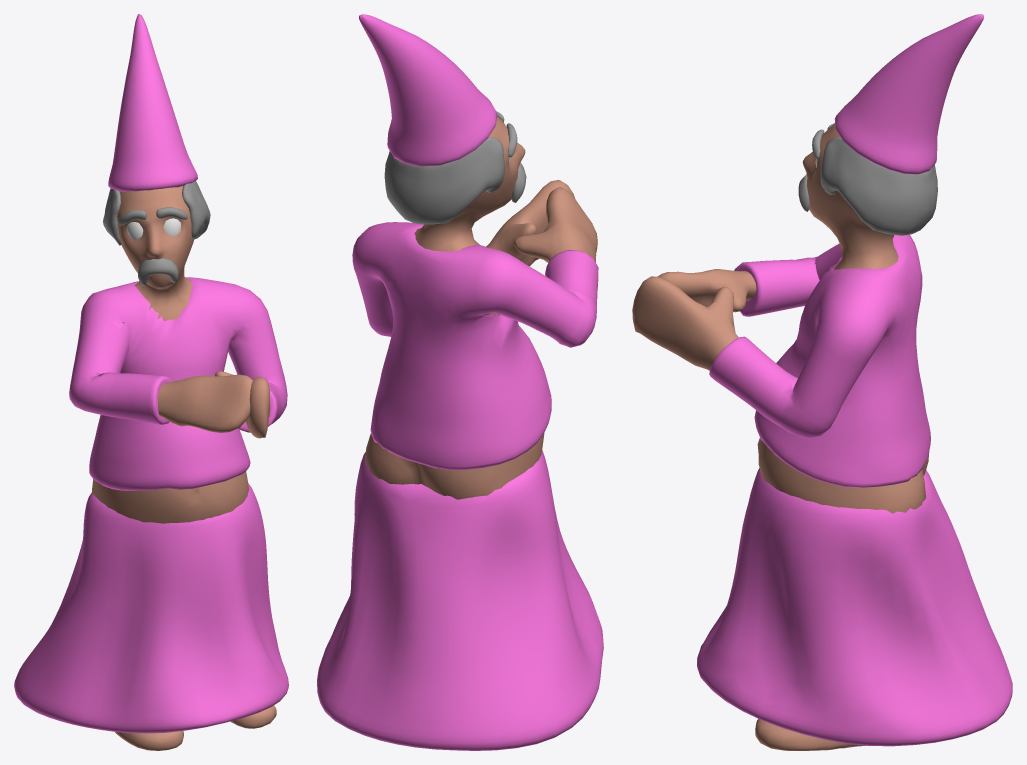
Rendered from Princesse_Mesh.FBX.
3 views of the same model, side by side, from view 1: azimuth 30°, elevation 25°; view 2: azimuth 150°, elevation 25°; view 3: azimuth 270°, elevation 25° (orthographic). The views are drawn at different scales.
Visible parts, largest first — view 1: Princesse; view 2: Princesse; view 3: Princesse.
Part boxes in pixels (x1,y1,x2,y2): Princesse: [14, 14, 288, 750]; Princesse: [317, 14, 603, 750]; Princesse: [632, 14, 1012, 750].
Size of the model in its own units: 45.28 by 123 by 59.42.
